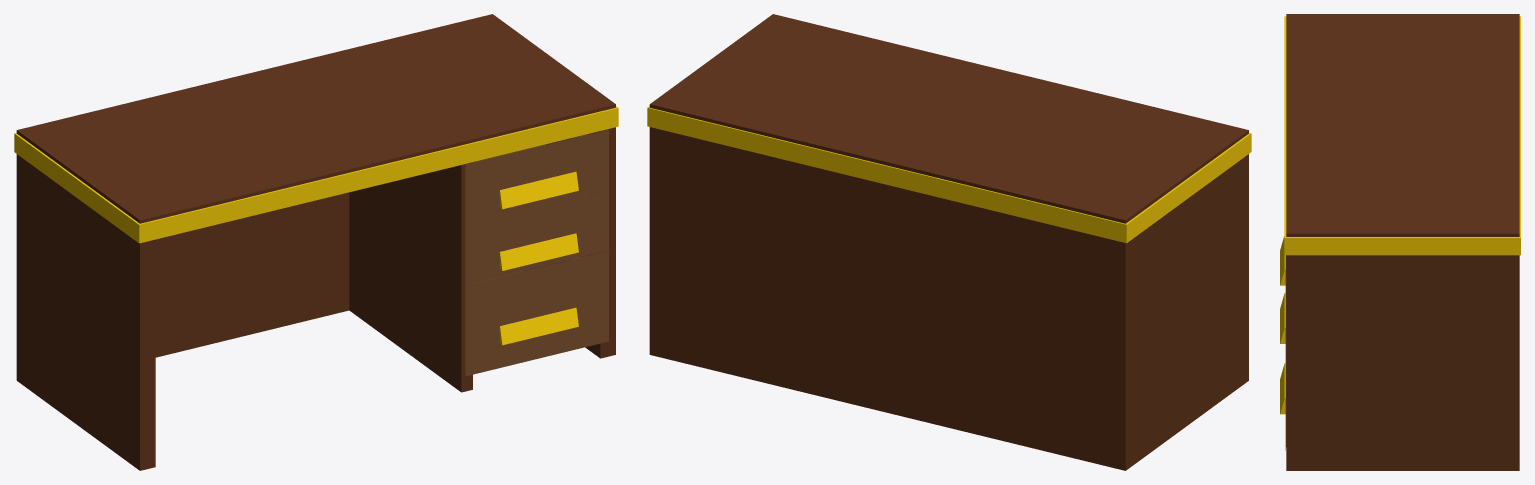
The model's file is OtherDeskWithDrawers.fbx.
3 views of the same model, side by side, from view 1: azimuth 30°, elevation 25°; view 2: azimuth 150°, elevation 25°; view 3: azimuth 270°, elevation 25° (orthographic). The views are drawn at different scales.
Parts seen in each view (by area): view 1: Cube, Cube.005, Cube.001, Cube.003, Cube.002, Cube.007, Cube.008, Cube.004; view 2: Cube, Cube.005; view 3: Cube, Cube.005, Cube.008, Cube.007.
Part boxes in pixels (x1=…): Cube: x1=16, y1=14, x2=615, y2=470; Cube.005: x1=14, y1=106, x2=618, y2=243; Cube.001: x1=465, y1=250, x2=608, y2=376; Cube.003: x1=465, y1=129, x2=608, y2=224; Cube.002: x1=465, y1=190, x2=608, y2=284; Cube.007: x1=499, y1=233, x2=578, y2=270; Cube.008: x1=499, y1=307, x2=578, y2=345; Cube.004: x1=499, y1=171, x2=578, y2=209; Cube: x1=649, y1=14, x2=1248, y2=470; Cube.005: x1=647, y1=106, x2=1251, y2=243; Cube: x1=1286, y1=14, x2=1519, y2=470; Cube.005: x1=1284, y1=16, x2=1520, y2=255; Cube.008: x1=1280, y1=363, x2=1285, y2=414; Cube.007: x1=1280, y1=292, x2=1285, y2=343.
Bounding box in the file's own units: 826 × 412 × 379.
